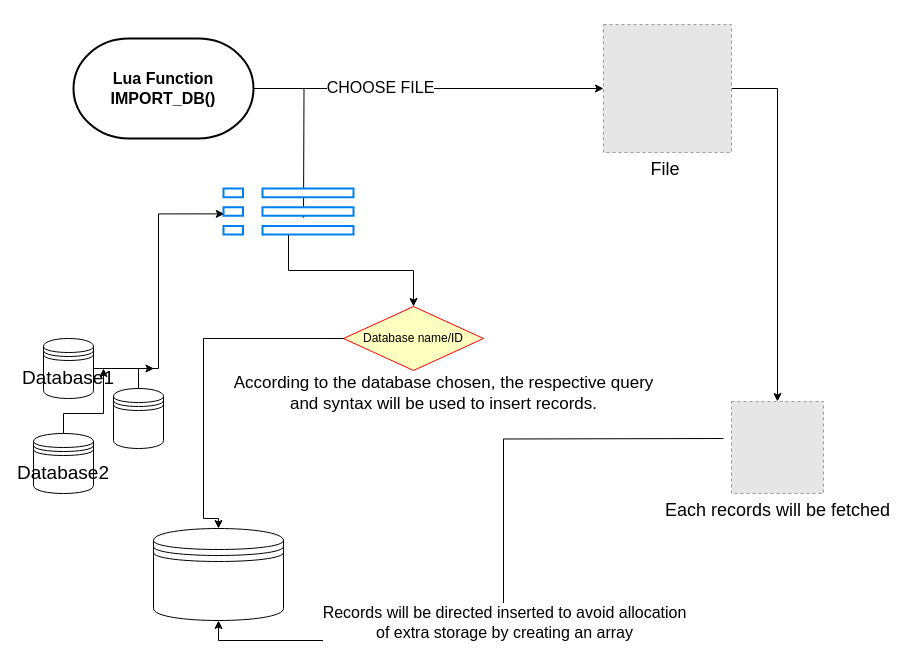
This 907x667 diagram has some shape labels left out. Grey dashed boxes stand in for pictures. The box of each missing label's shape, as (x1, y1, x2, y2) in pixels:
Database: (152, 528, 284, 620)
Database3: (112, 388, 164, 448)
Options to choose a Database: (222, 187, 354, 235)
